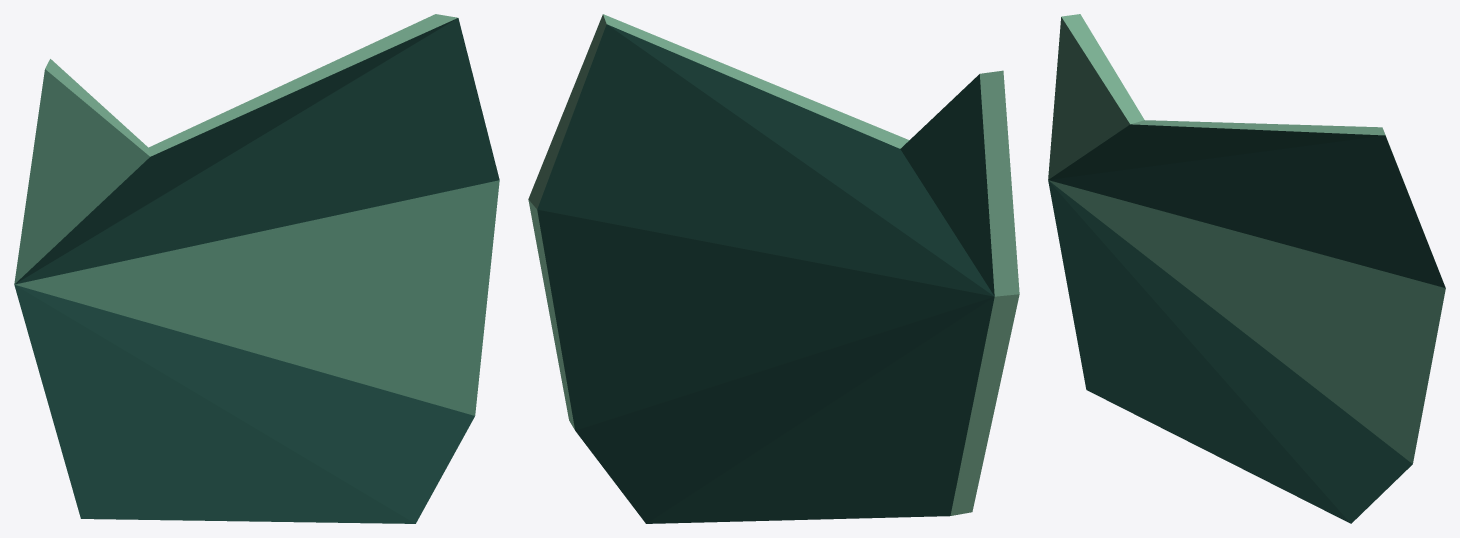
Rendered from gin_bottle_piece_front.glb.
3 views of the same model, side by side, from view 1: azimuth 30°, elevation 25°; view 2: azimuth 150°, elevation 25°; view 3: azimuth 330°, elevation 25° (orthographic). The views are drawn at different scales.
Visible parts, largest first — view 1: Curved solid jagged glass.009; view 2: Curved solid jagged glass.009; view 3: Curved solid jagged glass.009.
Part boxes in pixels (box(x1,y1,x2,y2)): Curved solid jagged glass.009: box(14, 14, 499, 523); Curved solid jagged glass.009: box(528, 14, 1019, 523); Curved solid jagged glass.009: box(1048, 14, 1445, 523).
Size of the model in its own units: 0.0743 by 0.0783 by 0.0081.
